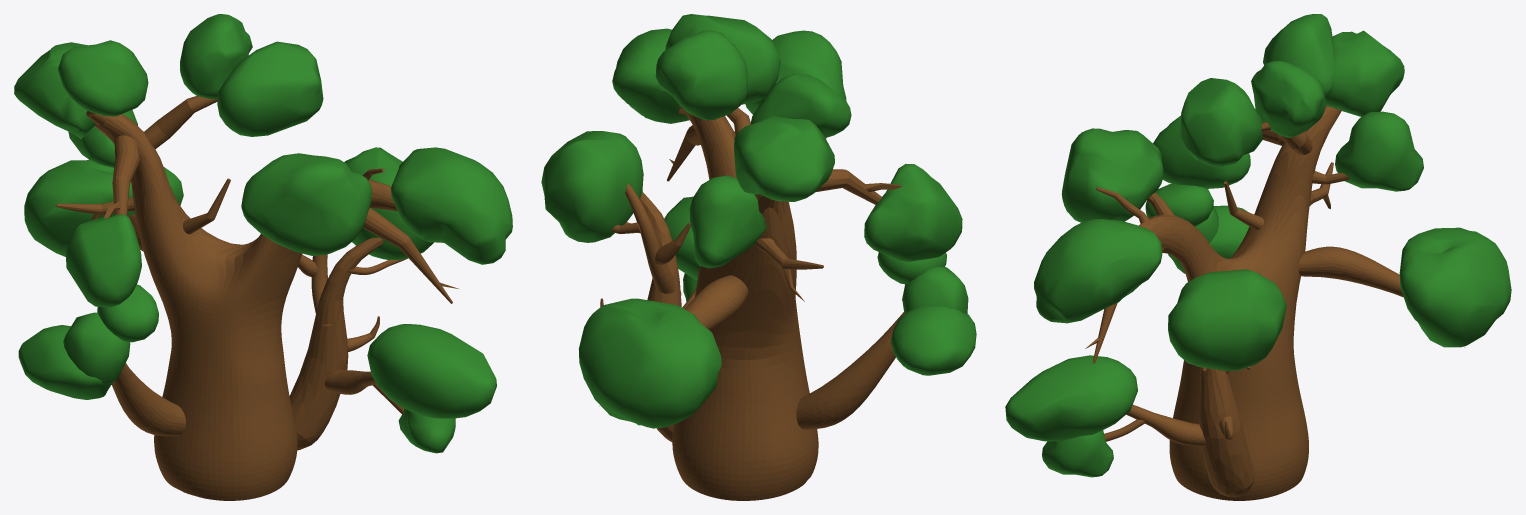
The model's file is AfricaTree11.fbx.
3 views of the same model, side by side, from view 1: azimuth 30°, elevation 25°; view 2: azimuth 150°, elevation 25°; view 3: azimuth 270°, elevation 25° (orthographic). The views are drawn at different scales.
Visible parts, largest first — view 1: Leaves, Trunk; view 2: Leaves, Trunk; view 3: Leaves, Trunk.
Boxes of the visible parts, box(x1,y1,x2,y2) form: Leaves: box(14, 14, 512, 453); Trunk: box(55, 96, 459, 500); Leaves: box(541, 14, 976, 428); Trunk: box(599, 105, 905, 500); Leaves: box(1005, 14, 1511, 477); Trunk: box(1085, 105, 1465, 500).
Bounding box in the file's own units: 3.54 × 3.64 × 3.98.
